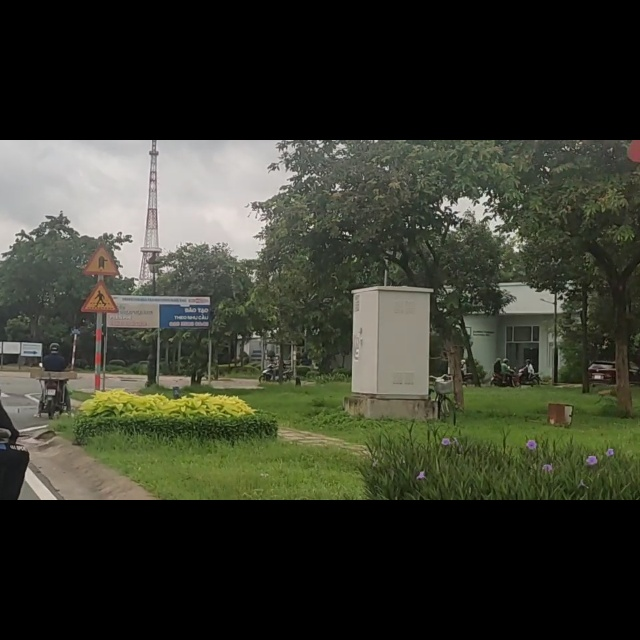bien_nguy_hiem: (81, 248, 121, 308), (84, 185, 119, 244)
